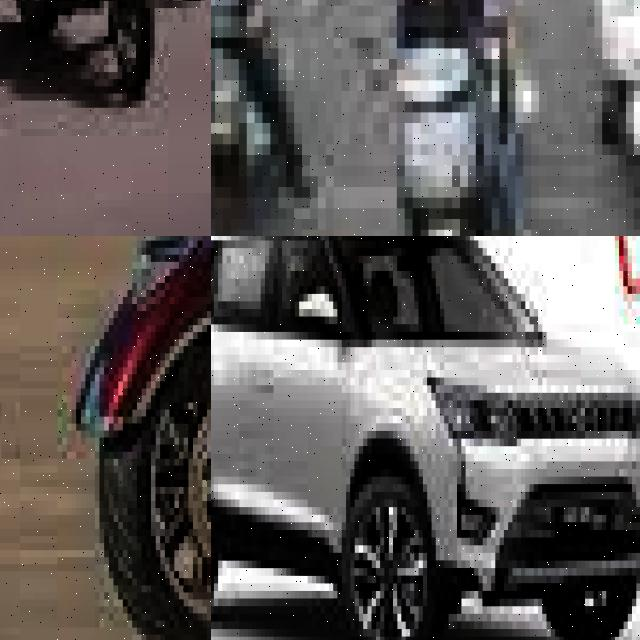bike: (57, 236, 211, 640), (381, 37, 531, 236), (0, 0, 187, 122), (211, 0, 286, 236), (570, 0, 640, 208)
car: (211, 236, 640, 640)
